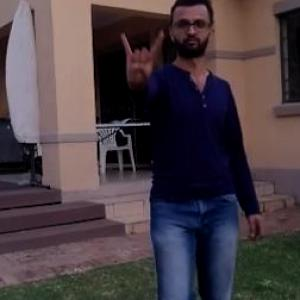takeoff-hand: (116, 24, 172, 86)
